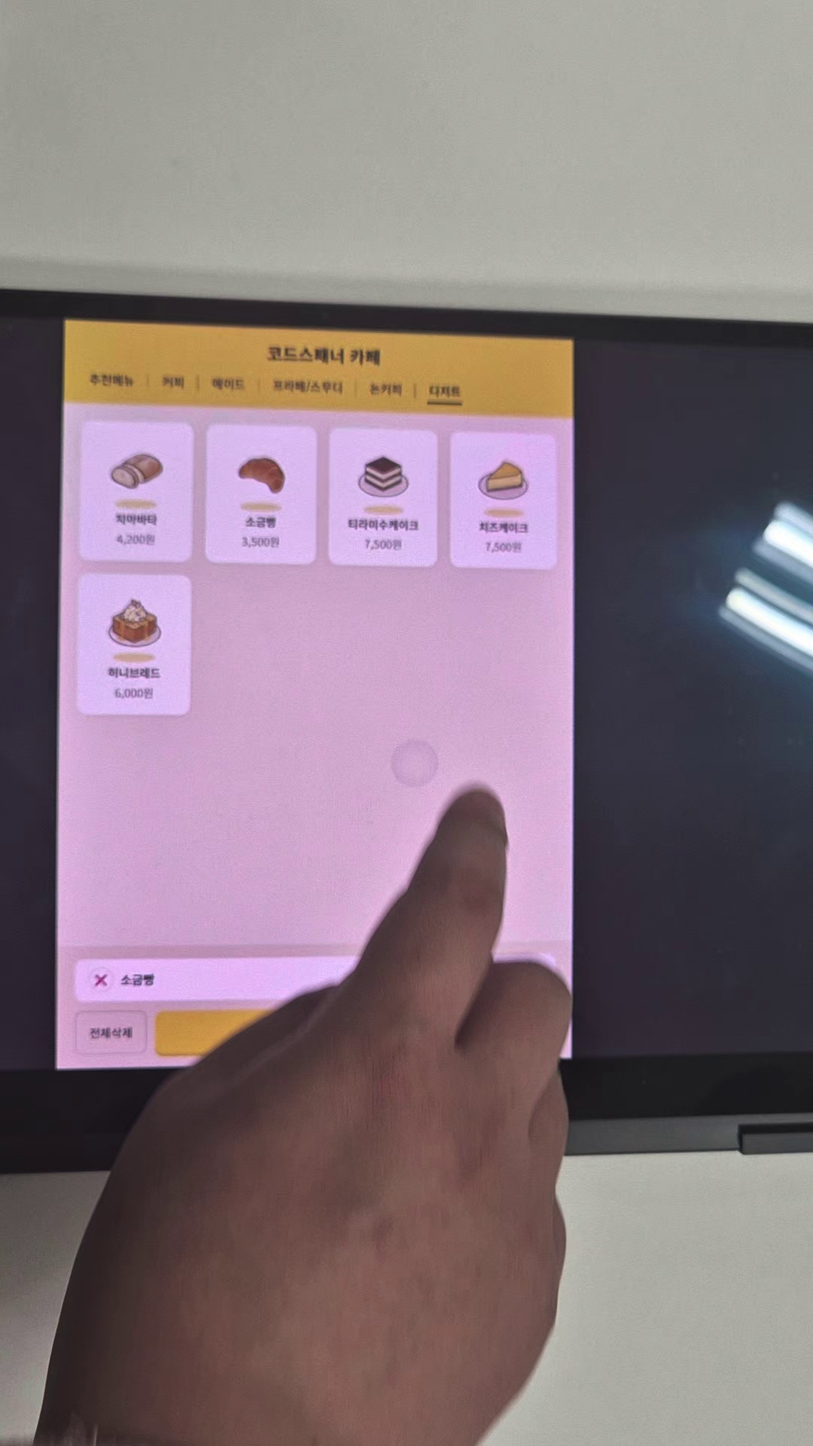action_button: (76, 1014, 147, 1052)
cart_item: (75, 954, 552, 997)
category_tab: (272, 380, 344, 395), (90, 373, 133, 387), (211, 377, 245, 390), (370, 383, 403, 396), (429, 385, 461, 397), (162, 375, 184, 389)
menu_back: (78, 419, 192, 562), (75, 574, 190, 715), (206, 424, 314, 563), (331, 427, 437, 565), (452, 433, 556, 570)
menu_name: (346, 519, 420, 531), (478, 521, 529, 533), (108, 667, 161, 678), (114, 514, 158, 526), (246, 517, 277, 528)
menu_price: (364, 538, 404, 551), (113, 688, 155, 699), (116, 535, 156, 545), (241, 537, 280, 547), (485, 542, 522, 552)
